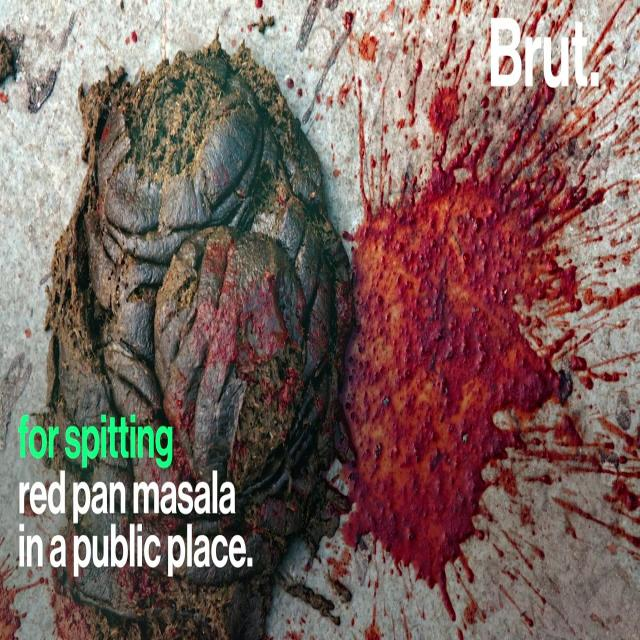spit: (321, 89, 569, 566)
